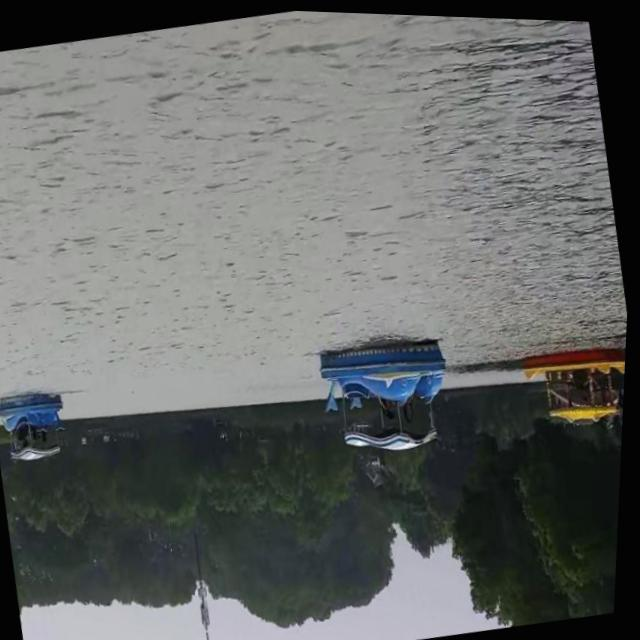ship2: (324, 337, 449, 444), (2, 390, 68, 459)
